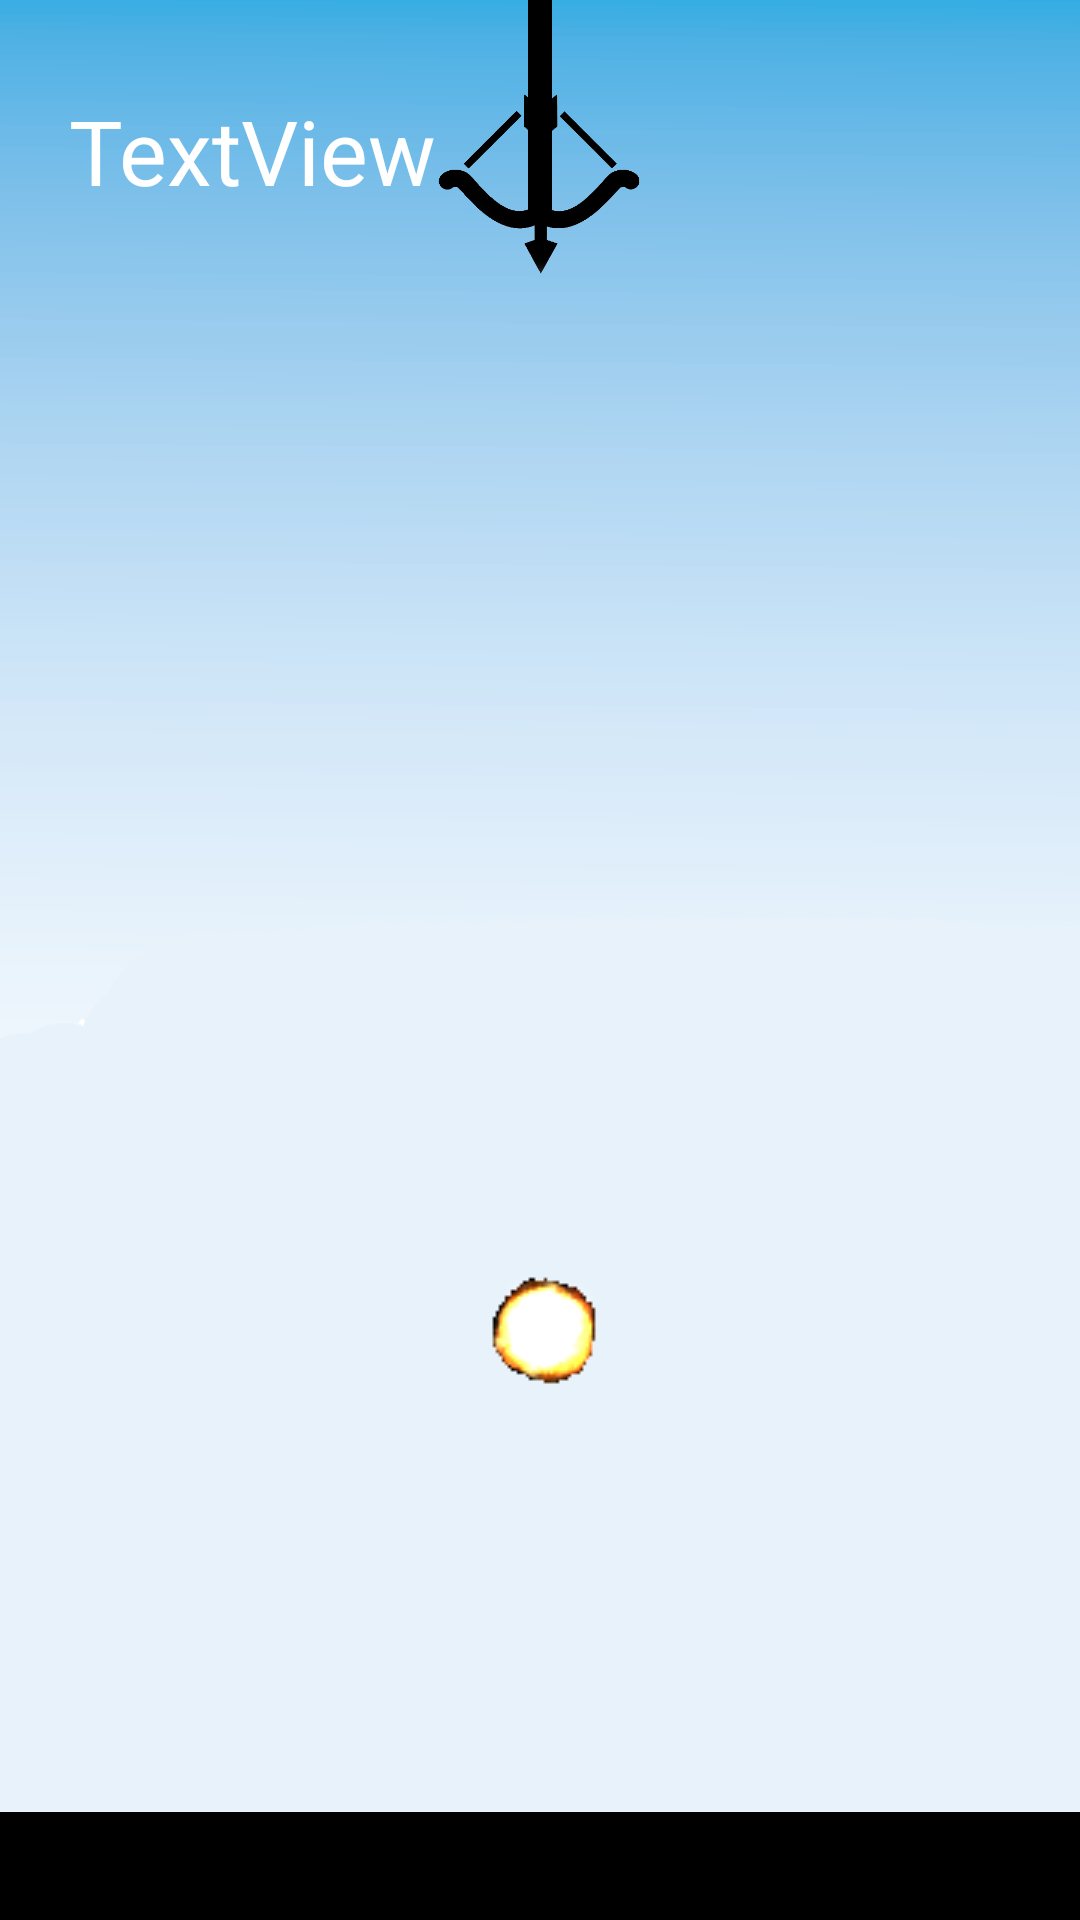

Screen size 1080 × 1920. Icon name, then its box in pixels as box=[x1, y1, x2, y2]:
boom: box=[492, 1277, 596, 1384]
